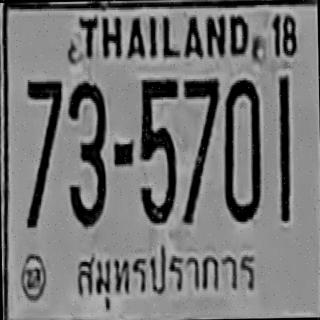N00: (223, 78, 261, 222)
N01: (277, 75, 291, 221)
N03: (66, 79, 108, 228)
N05: (138, 77, 180, 223)
N07: (24, 79, 64, 230), (180, 77, 220, 224)
P57: (69, 235, 260, 303)
